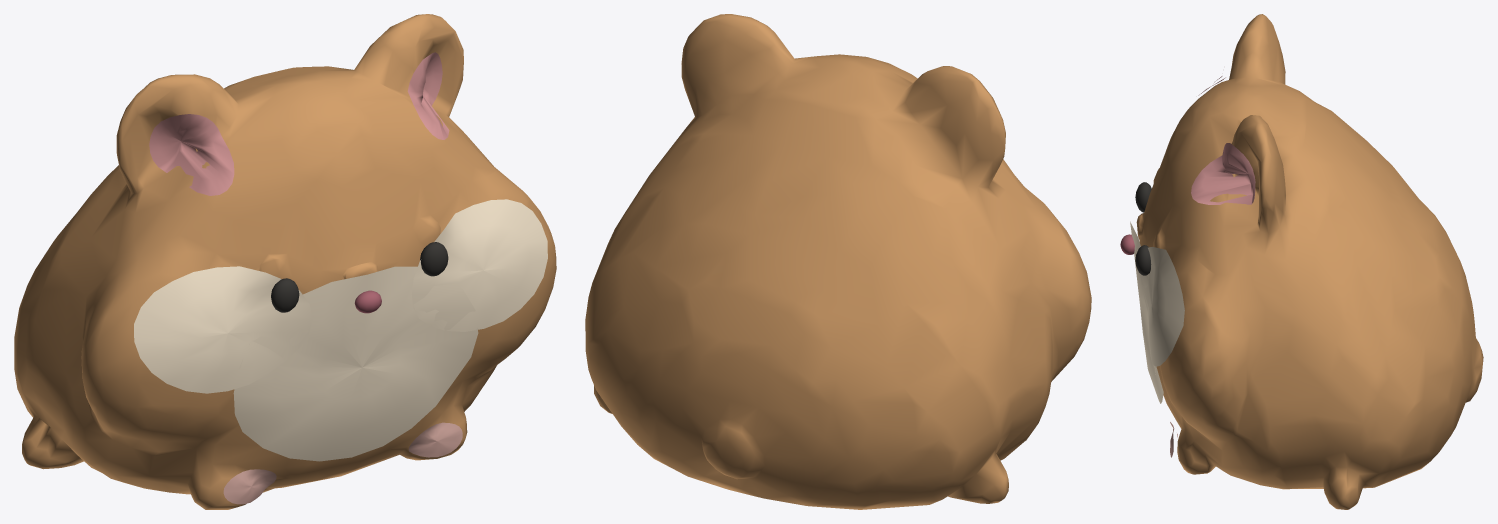
File: hamster.glb
3 renders of one model, left to right at view 1: azimuth 30°, elevation 25°; view 2: azimuth 150°, elevation 25°; view 3: azimuth 270°, elevation 25°, orthographic. The views are drawn at different scales.
Parts seen in each view (by area): view 1: pet-body, pet-markings, pet-ears, pet-feet, Eye left, Eye right; view 2: pet-body; view 3: pet-body, pet-markings, pet-ears.
Part boxes in pixels (x1,y1,x2,y2): pet-body: (14, 14, 556, 509); pet-markings: (134, 199, 547, 461); pet-ears: (149, 52, 449, 195); pet-feet: (223, 422, 462, 504); Eye left: (271, 278, 299, 312); Eye right: (420, 242, 448, 276); pet-body: (585, 14, 1091, 509); pet-body: (1136, 14, 1483, 509); pet-markings: (1130, 221, 1184, 403); pet-ears: (1191, 76, 1255, 204).
Size of the model in its own units: 0.799 by 0.6658 by 0.6239.
